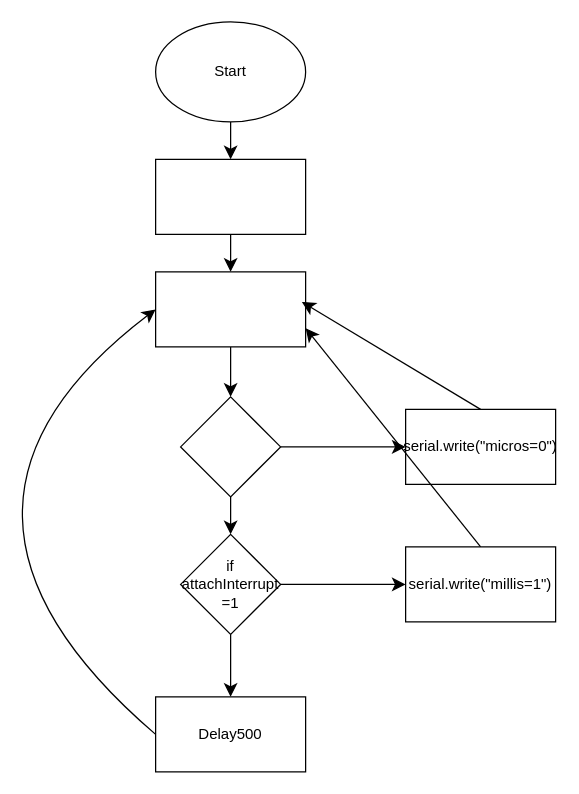
Image size: 579x794. Some labels were removed from this diagram. Here are the shapes that lost their labels. From the top down, the box of each, then its label:
(154, 158, 306, 234): setup pin 13
(154, 271, 306, 347): turn digitalWrite on and off
(179, 396, 281, 497): if attachInterrupt =0
